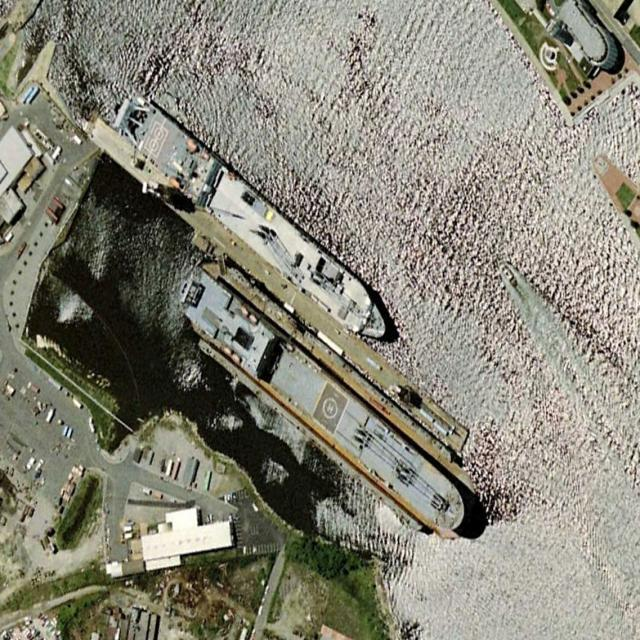Cargo: (172, 260, 473, 547), (109, 82, 397, 353)
